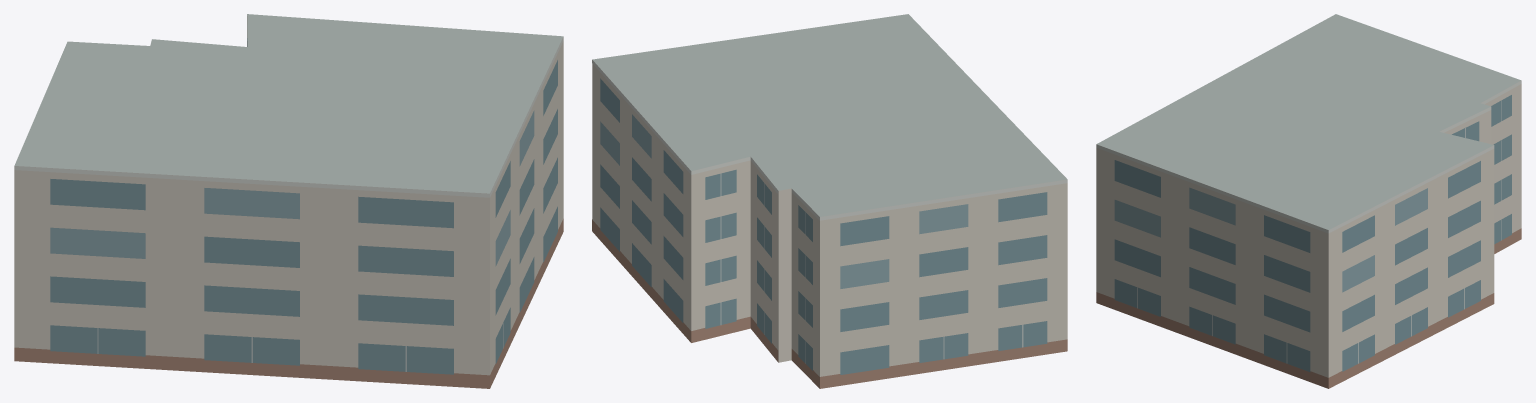
File: survey-upis-32474039.glb
The picture shows the model from 3 angles, left to right: view 1: azimuth 30°, elevation 25°; view 2: azimuth 150°, elevation 25°; view 3: azimuth 270°, elevation 25°; orthographic projection. The views are drawn at different scales.
Visible parts, largest first — view 1: survey-upis-32474039.tmp; view 2: survey-upis-32474039.tmp; view 3: survey-upis-32474039.tmp.
Boxes of the visible parts, x1,y1,x2,y2 form: survey-upis-32474039.tmp: (14,14,563,388); survey-upis-32474039.tmp: (592,14,1067,388); survey-upis-32474039.tmp: (1096,14,1521,388).
Size of the model in its own units: 33.29 by 11.4 by 27.68.
